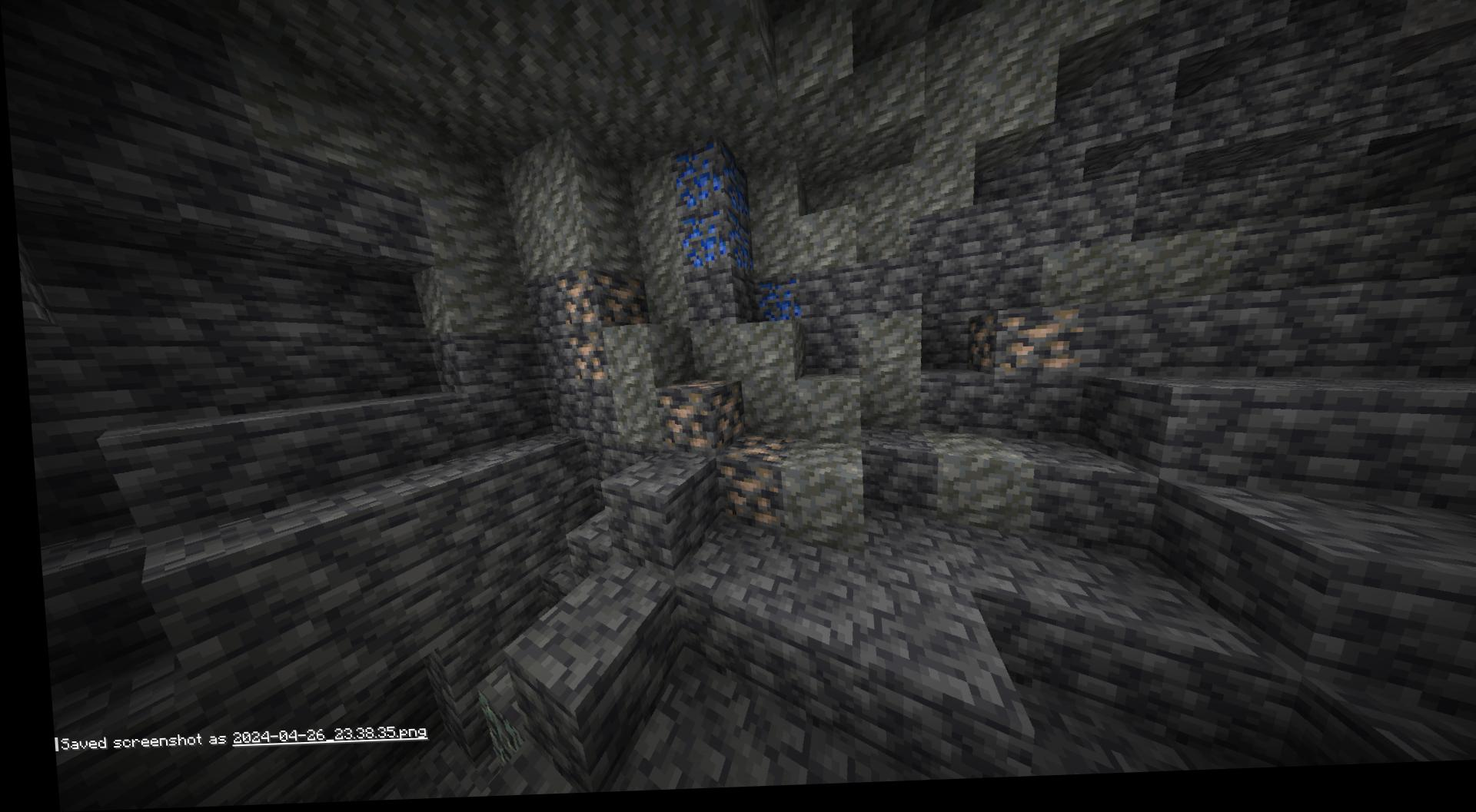iron ore: (990, 321, 1072, 377), (716, 469, 772, 534), (590, 276, 647, 329), (648, 400, 700, 455), (551, 277, 597, 329), (563, 331, 600, 388), (701, 393, 741, 443), (718, 440, 788, 466), (958, 330, 988, 379)
